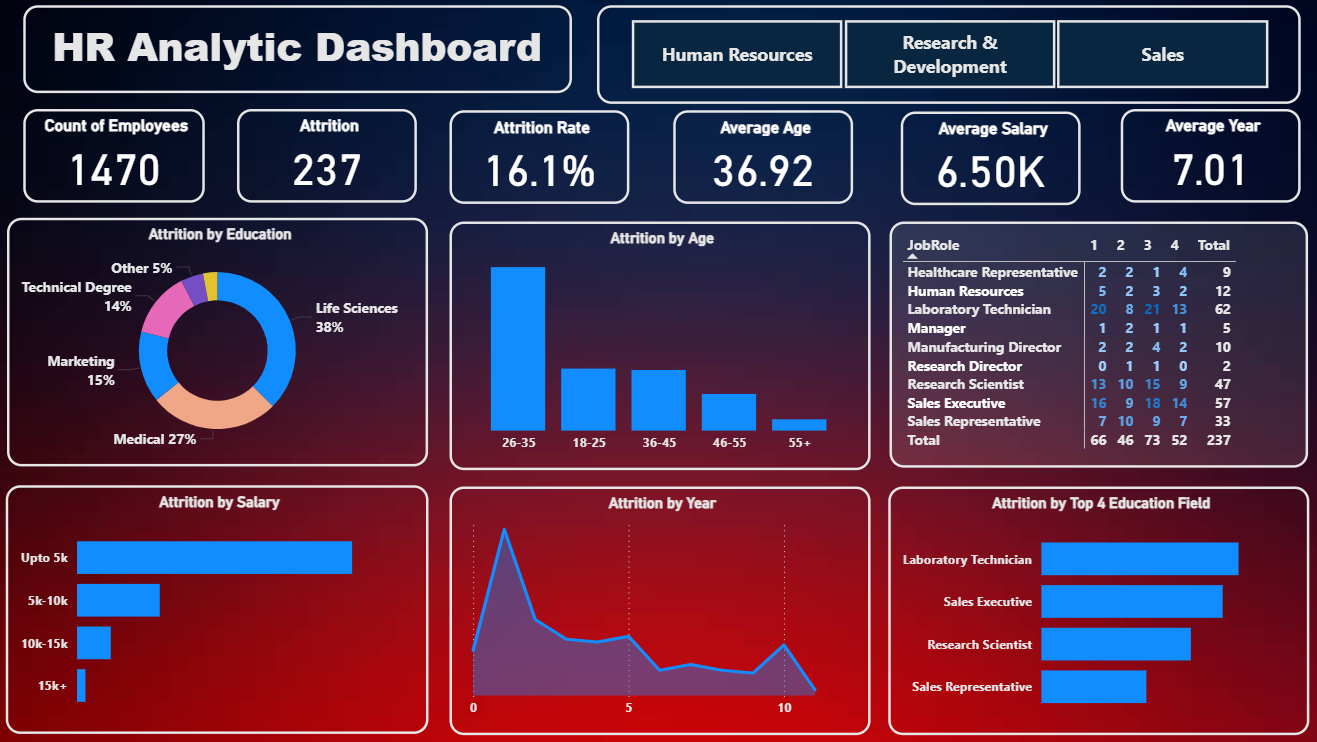

The page's visual inventory and layout, read from the dashboard file:
{"tool":"powerbi","page":{"name":"HR_Analytic_Dashboard","canvas":[1280,720],"ordinal":0},"visuals":[{"type":"card","title":"Count of Employees","fields":{"Values":["CountNonNull(HR_Analytics.EmpID)"]},"box":[25.3,106.2,174.9,90.5],"z":0},{"type":"card","title":"Average Age","fields":{"Values":["Avg(HR_Analytics.Age)"]},"box":[652.7,107.4,173.7,90.5],"z":1000},{"type":"card","title":"Attrition Rate","fields":{"Values":["HR_Analytics.AttritionRate"]},"box":[436.7,107.4,173.7,90.5],"z":2000},{"type":"card","title":" Attrition","fields":{"Values":["Sum(HR_Analytics.AttritionCount)"]},"box":[231.6,106.2,173.7,90.5],"z":3000},{"type":"card","title":"Average Salary","fields":{"Values":["Avg(HR_Analytics.MonthlyIncome)"]},"box":[872.3,108.6,173.7,90.5],"z":4000},{"type":"card","title":"Average Year","fields":{"Values":["Avg(HR_Analytics.YearsAtCompany)"]},"box":[1084.6,106.2,173.7,90.5],"z":5000},{"type":"donutChart","title":"Attrition by Education","fields":{"Category":["HR_Analytics.EducationField"],"Y":["Sum(HR_Analytics.AttritionCount)"]},"box":[9.7,211.1,406.6,240],"z":6000},{"type":"columnChart","title":"Attrition by Age","fields":{"Category":["HR_Analytics.AgeGroup"],"Y":["Sum(HR_Analytics.AttritionCount)"]},"box":[436.7,214.7,406,240],"z":7000},{"type":"pivotTable","fields":{"Rows":["HR_Analytics.JobRole"],"Columns":["HR_Analytics.JobSatisfaction"],"Values":["Sum(HR_Analytics.AttritionCount)"]},"box":[861.4,214.7,404.2,237.7],"z":8000},{"type":"barChart","title":"Attrition by Salary","fields":{"Category":["HR_Analytics.SalarySlab"],"Y":["Sum(HR_Analytics.AttritionCount)"]},"box":[8.4,469.3,407.8,240.1],"z":9000},{"type":"barChart","title":"Attrition by Top 4 Education Field ","fields":{"Y":["Sum(HR_Analytics.AttritionCount)"],"Category":["HR_Analytics.JobRole"]},"box":[860.2,470.5,406.6,240.1],"z":10000},{"type":"areaChart","title":"Attrition by Year","fields":{"Category":["HR_Analytics.YearsAtCompany"],"Y":["Sum(HR_Analytics.AttritionCount)"]},"box":[436.7,470.5,406,240],"z":11000},{"type":"slicer","fields":{"Values":["HR_Analytics.Department"]},"box":[579.1,6,679.2,95.3],"z":12000},{"type":"textbox","box":[25.3,6,529.6,84.5],"z":13000}]}

Visuals, with their boxes in screenshot pixels (x1, y1, x2, y2), scaled from the page's 1280x720 canvas onto the 1317x742 screenshot:
"Count of Employees" card: bbox(26, 109, 206, 203)
"Average Age" card: bbox(672, 111, 850, 204)
"Attrition Rate" card: bbox(449, 111, 628, 204)
" Attrition" card: bbox(238, 109, 417, 203)
"Average Salary" card: bbox(898, 112, 1076, 205)
"Average Year" card: bbox(1116, 109, 1295, 203)
"Attrition by Education" donutChart: bbox(10, 218, 428, 465)
"Attrition by Age" columnChart: bbox(449, 221, 867, 469)
pivotTable - HR_Analytics.JobRole x HR_Analytics.JobSatisfaction: bbox(886, 221, 1302, 466)
"Attrition by Salary" barChart: bbox(9, 484, 428, 731)
"Attrition by Top 4 Education Field " barChart: bbox(885, 485, 1303, 732)
"Attrition by Year" areaChart: bbox(449, 485, 867, 732)
slicer - HR_Analytics.Department: bbox(596, 6, 1295, 104)
textbox: bbox(26, 6, 571, 93)
